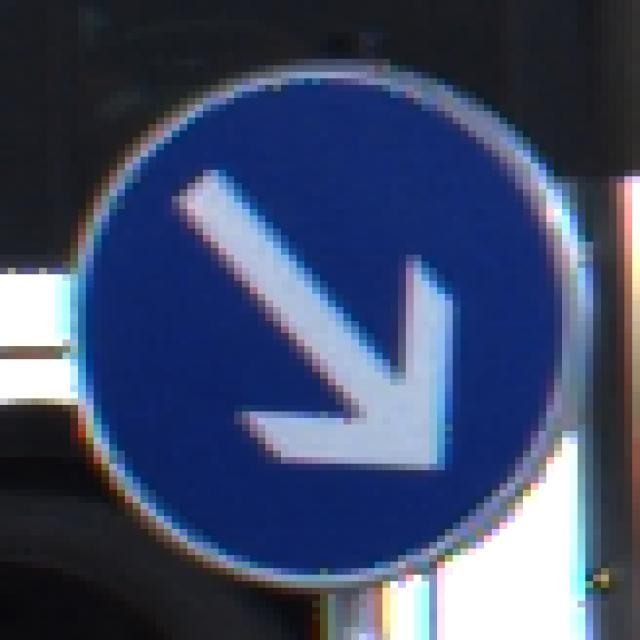compulsary keep right: (70, 58, 584, 594)
